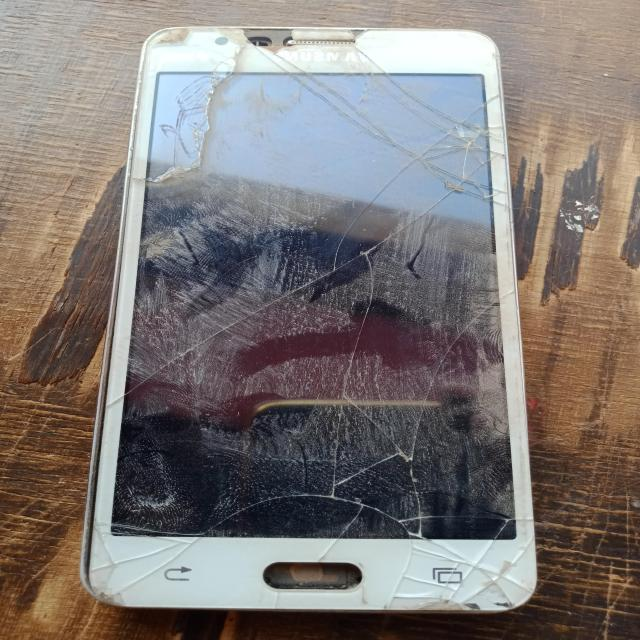mobile: (21, 27, 578, 616)
